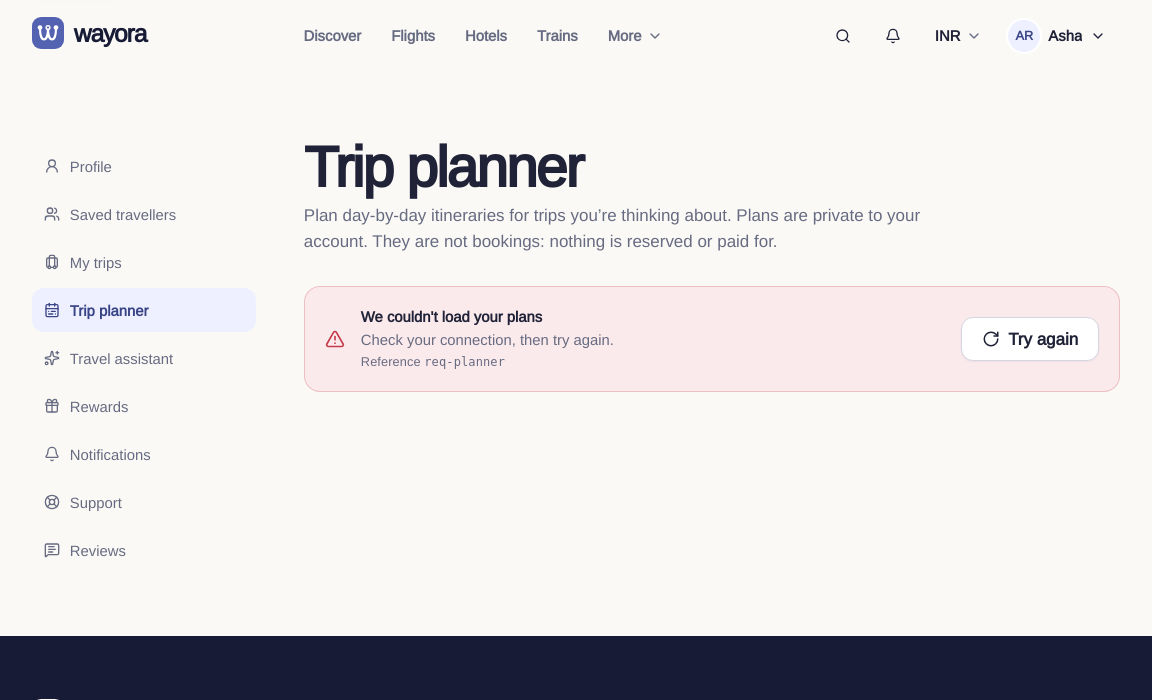
Test: the plan list › shows an error with a retry
Check: the text "We couldn't load your plans" is shown, box left=361, top=306, right=542, bottom=324
Step 1. Click the button "Try again" → (1030, 339), box left=961, top=317, right=1099, bottom=361
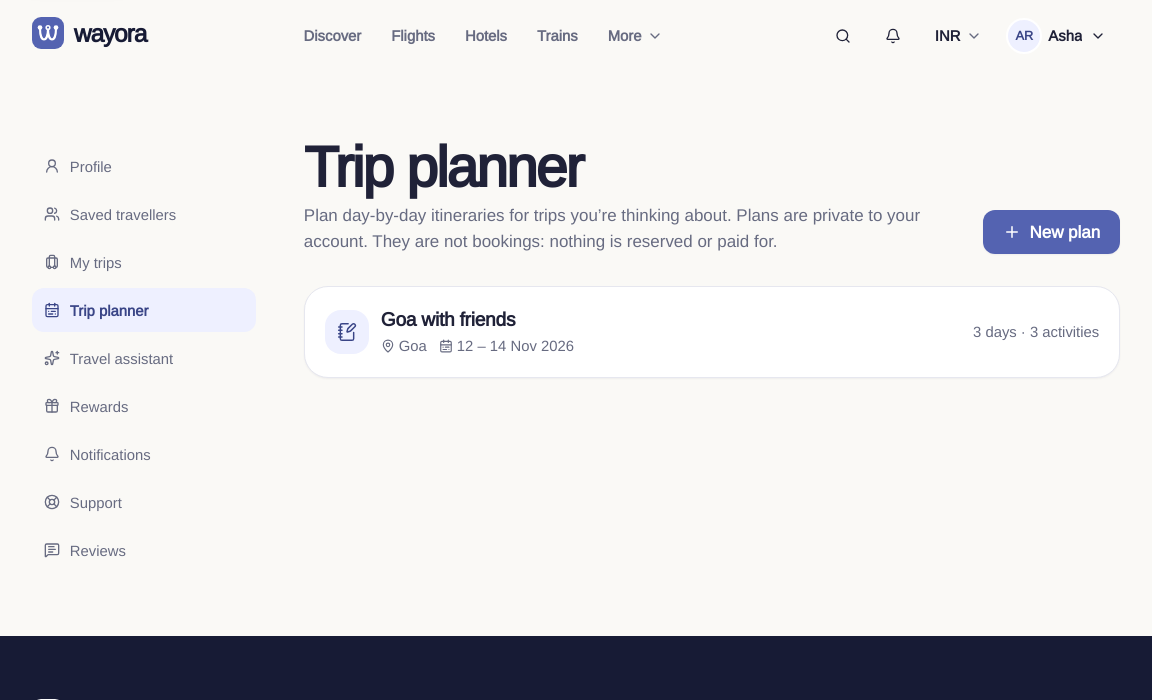
Check: the list named "Your plans" is shown, box left=304, top=286, right=1120, bottom=378
